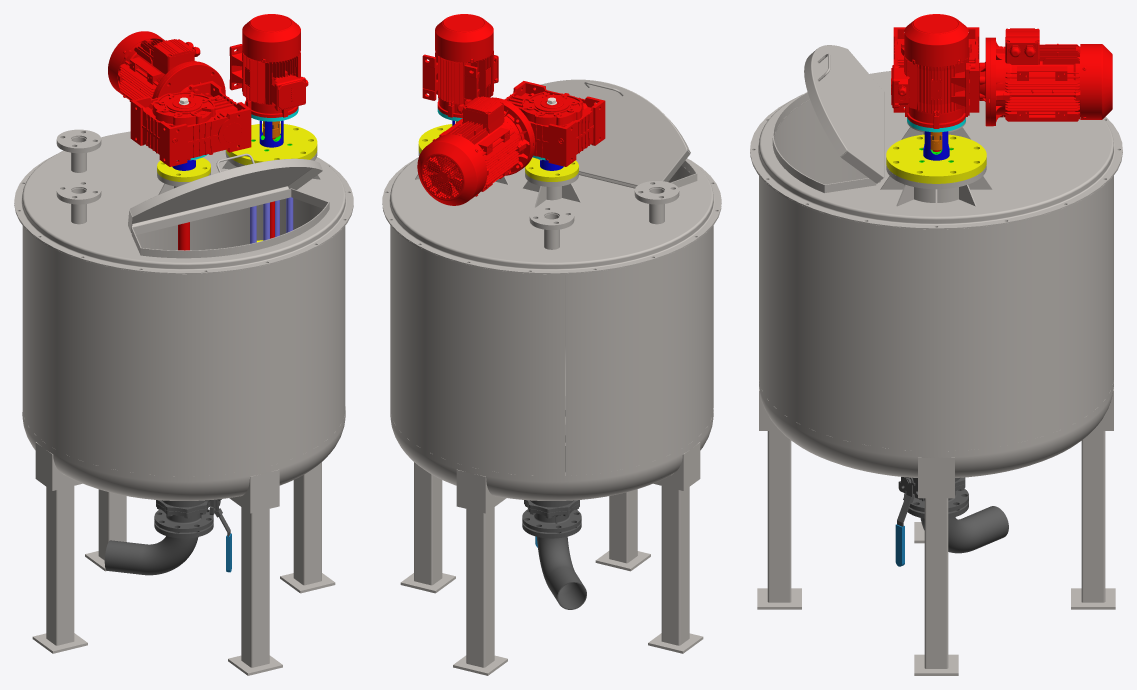
The model's file is dual-karistirici-montaj.glb.
The picture shows the model from 3 angles, left to right: view 1: azimuth 30°, elevation 25°; view 2: azimuth 150°, elevation 25°; view 3: azimuth 270°, elevation 25°; orthographic projection. The views are drawn at different scales.
Parts seen in each view (by area): view 1: Govde-Saci-1, Ust-Kapak-2-1, EV_125_0_0_3E132M_B5_ML16A_0_0_0_1_0_0_P2_A_F2132A_0_0_0_M1- (×5), Dual-Karistirici-Montaj, Alt-Bombe-1, AGM3E-112M-B34-2_00-A motor-1, Ayaklar-3, Manhole-Kapak-2, vana_v206-dn100-pn40-2, Motor plakasi-1, Motor-Adaptor-Bogazi-1, Kaplin odasi-1 (+1 smaller); view 2: Govde-Saci-1, Ust-Kapak-2-1, EV_125_0_0_3E132M_B5_ML16A_0_0_0_1_0_0_P2_A_F2132A_0_0_0_M1- (×5), Dual-Karistirici-Montaj, Manhole-Kapak-2, Alt-Bombe-1, Ayaklar-3, AGM3E-112M-B34-2_00-A motor-1, vana_v206-dn100-pn40-2, Motor-Adaptor-Bogazi-1, Üst flans-1, Adaptor-bogaz-2; view 3: Govde-Saci-1, Ust-Kapak-2-1, Dual-Karistirici-Montaj, EV_125_0_0_3E132M_B5_ML16A_0_0_0_1_0_0_P2_A_F2132A_0_0_0_M1- (×5), Alt-Bombe-1, AGM3E-112M-B34-2_00-A motor-1, Manhole-Kapak-2, vana_v206-dn100-pn40-2, Motor plakasi-1, Adaptor-bogaz2-1, Kaplin odasi-1, Üst flans-1.
Part boxes in pixels (x1,y1,x2,y2): Govde-Saci-1: (22,198,345,476); Ust-Kapak-2-1: (14,129,353,274); EV_125_0_0_3E132M_B5_ML16A_0_0_0_1_0_0_P2_A_F2132A_0_0_0_M1- (×5): (108,31,251,166); Dual-Karistirici-Montaj: (85,159,335,675); Alt-Bombe-1: (22,406,345,500); AGM3E-112M-B34-2_00-A motor-1: (229,14,308,117); Ayaklar-3: (32,442,87,653); Manhole-Kapak-2: (128,153,322,232); vana_v206-dn100-pn40-2: (104,499,231,575); Motor plakasi-1: (226,123,317,165); Motor-Adaptor-Bogazi-1: (157,154,210,181); Kaplin odasi-1: (251,107,298,147); Govde-Saci-1: (390,165,713,476); Ust-Kapak-2-1: (382,157,721,274); EV_125_0_0_3E132M_B5_ML16A_0_0_0_1_0_0_P2_A_F2132A_0_0_0_M1- (×5): (417,81,605,205); Dual-Karistirici-Montaj: (400,174,650,675); Manhole-Kapak-2: (532,79,690,187); Alt-Bombe-1: (390,340,713,500); Ayaklar-3: (648,442,703,653); AGM3E-112M-B34-2_00-A motor-1: (422,14,498,117); vana_v206-dn100-pn40-2: (522,471,586,609); Motor-Adaptor-Bogazi-1: (525,155,578,181); Üst flans-1: (383,183,721,274); Adaptor-bogaz-2: (525,172,578,200); Govde-Saci-1: (759,100,1113,451); Ust-Kapak-2-1: (750,71,1122,229); Dual-Karistirici-Montaj: (757,127,1115,675); EV_125_0_0_3E132M_B5_ML16A_0_0_0_1_0_0_P2_A_F2132A_0_0_0_M1- (×5): (893,27,1112,126); Alt-Bombe-1: (759,377,1113,477); AGM3E-112M-B34-2_00-A motor-1: (891,14,969,128); Manhole-Kapak-2: (804,45,884,183); vana_v206-dn100-pn40-2: (895,477,1008,566); Motor plakasi-1: (886,134,986,183); Adaptor-bogaz2-1: (886,165,986,202); Kaplin odasi-1: (907,117,965,160); Üst flans-1: (750,120,1122,230).
Bounding box in the file's own units: 1.26 × 2.32 × 1.26.
